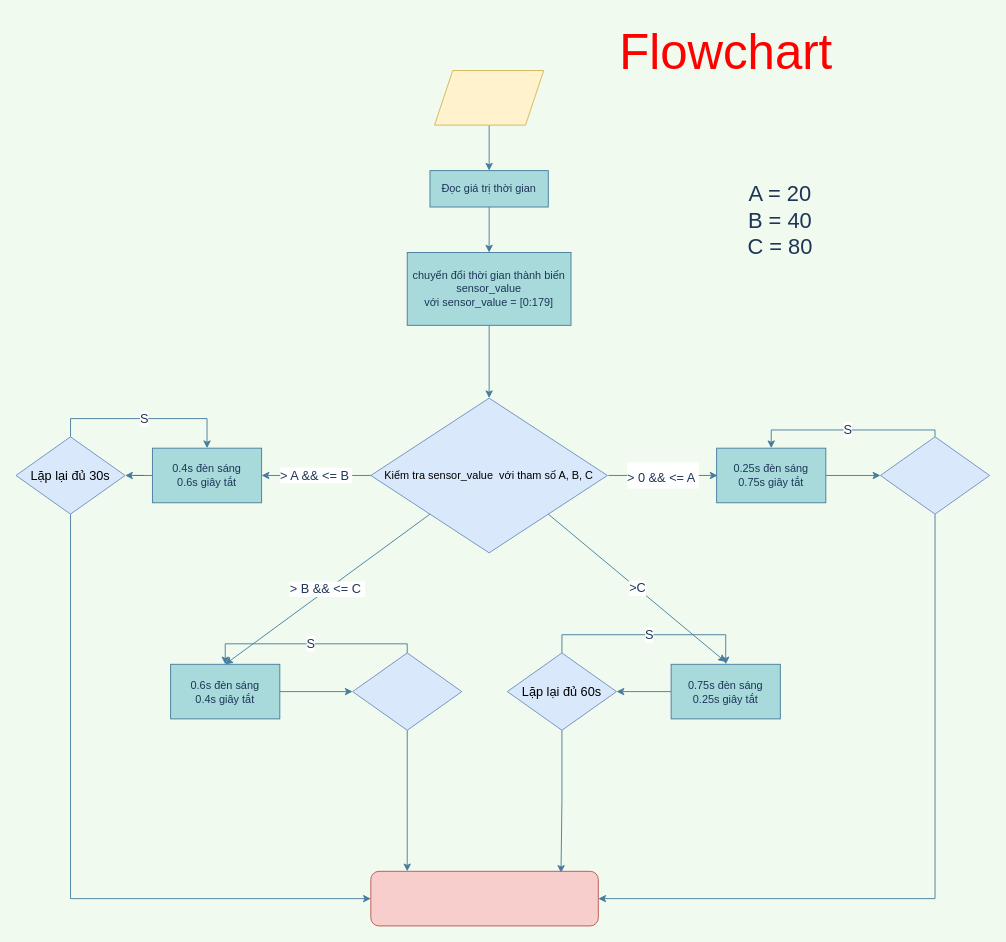
The diagram is 1006 pixels wide and 942 high, and some of its shapes have lost their labels. The centre of each missing label's shape, as x and y in pixels:
Input: RTC DS1302: (x=489, y=97)
Lặp lại đủ 10s: (x=935, y=475)
Lặp lại đủ 45s: (x=407, y=691)
Tiếp tục đọc cảm biến: (x=484, y=898)
